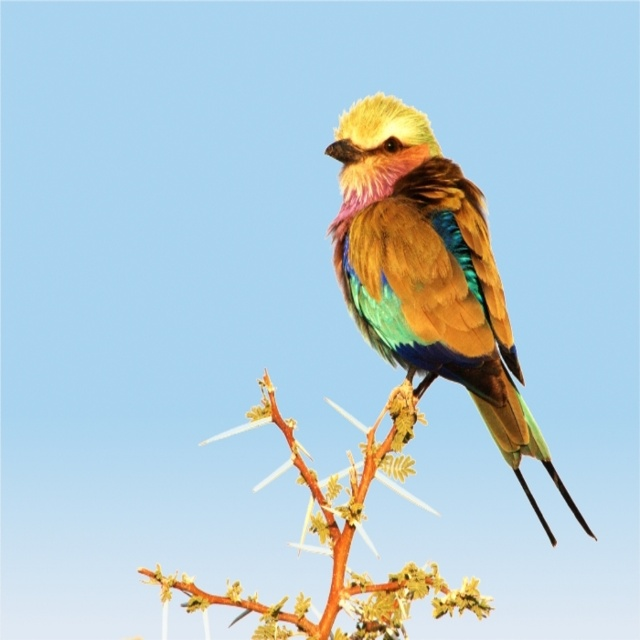Parrot: (323, 88, 599, 549)
